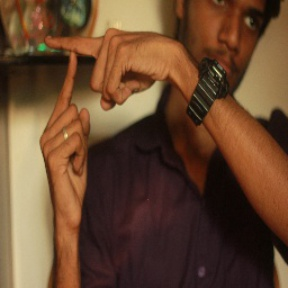T: (32, 25, 110, 127)
